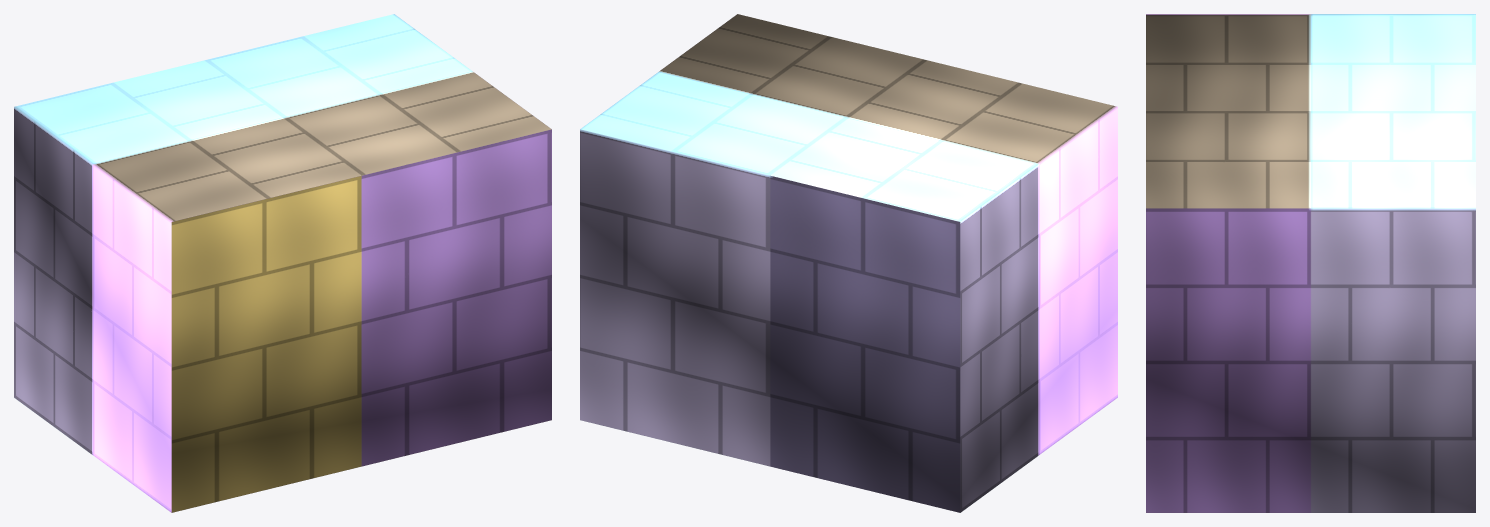
The model's file is book_pile.glb.
3 renders of one model, left to right at view 1: azimuth 30°, elevation 25°; view 2: azimuth 150°, elevation 25°; view 3: azimuth 270°, elevation 25°, orthographic. The views are drawn at different scales.
Parts seen in each view (by area): view 1: col; view 2: col; view 3: col.
Boxes of the visible parts, x1=… form: col: x1=14, y1=14, x2=551, y2=512; col: x1=580, y1=14, x2=1117, y2=512; col: x1=1146, y1=14, x2=1475, y2=512.
Size of the model in its own units: 0.957 by 0.6997 by 0.6864.
Materials: 1 (1 with a texture image).
